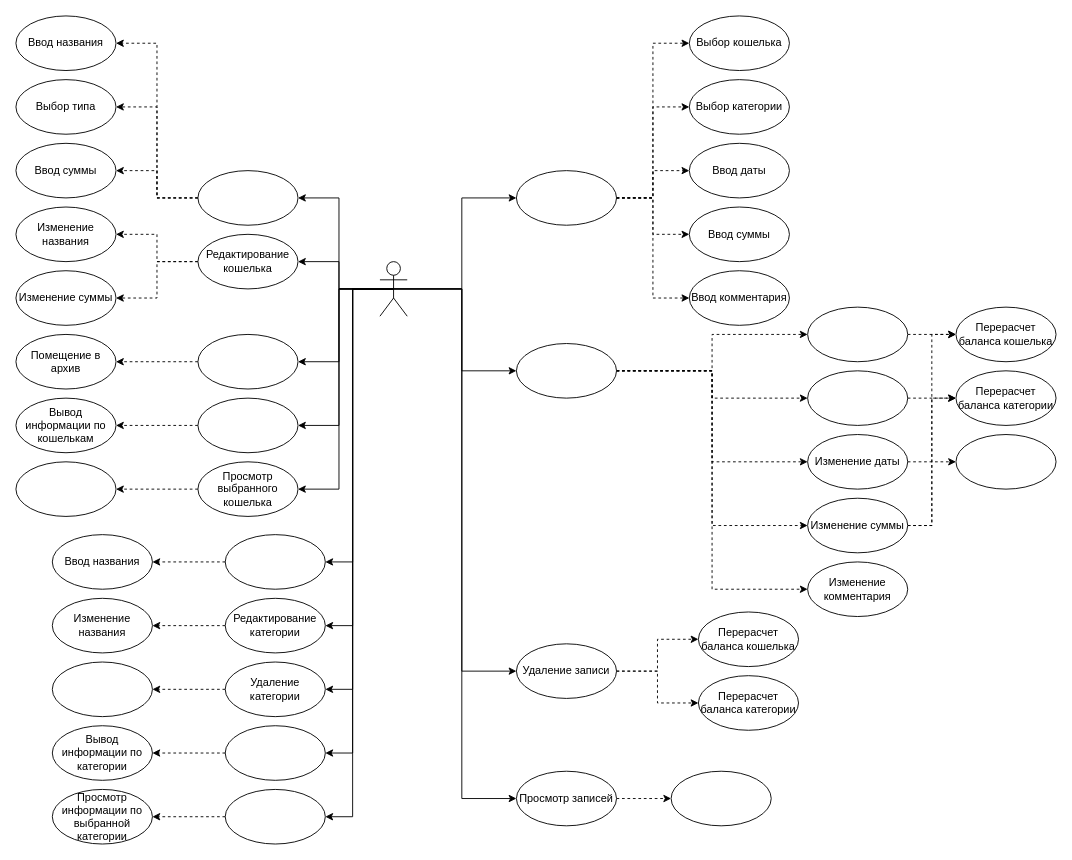
Image size: 1072x860. Some labels were removed from this diagram. The shapes that lost their labels are listed below. From the top down, each one's centre as x and y in pixels, then its label:
the point at 247,197: Создание кошелька
the point at 566,197: Создание записи
the point at 393,288: Actor
the point at 857,334: Изменение кошелька
the point at 247,361: Удаление кошелька
the point at 566,370: Редактирование записи
the point at 857,397: Изменение категории
the point at 247,425: Просмотр кошельков
the point at 1005,461: Изменения порядка вывода
the point at 65,488: Просмотр информации по выбранному кошельку
the point at 274,561: Создание категории
the point at 101,689: Помещение категории в архив
the point at 274,752: Просмотр категории
the point at 274,816: Просмотр выбранной категории
the point at 720,798: Вывод информации
